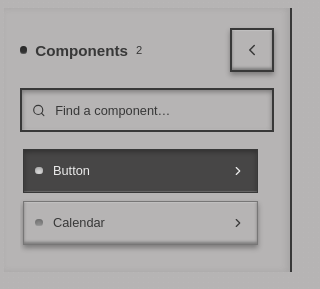
filters navigation and preserves readable links when collapsed
Step 1. Type "calendar" into the search field named "Filter components" → (158, 110), box [53,102,262,118]
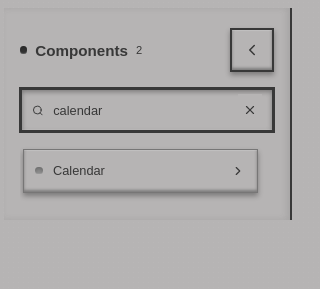
Expected: the link "Calendar" is shown, [23,149,258,193]
Step 2. Click the button named "Clear filter" → click(250, 110), box [238,94,262,126]
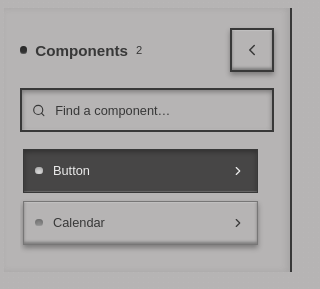
Step 3. Click the button named "Collapse sidebar" → click(252, 50), box [230,28,274,72]
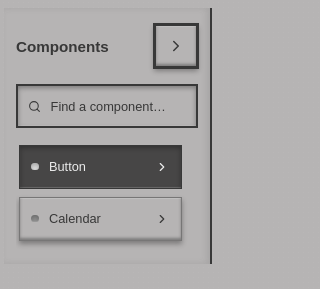
Expected: the link "Calendar" is shown, [19,197,182,241]
Expected: the button named "Expand sidebar" is collapsed, [154,24,198,68]
